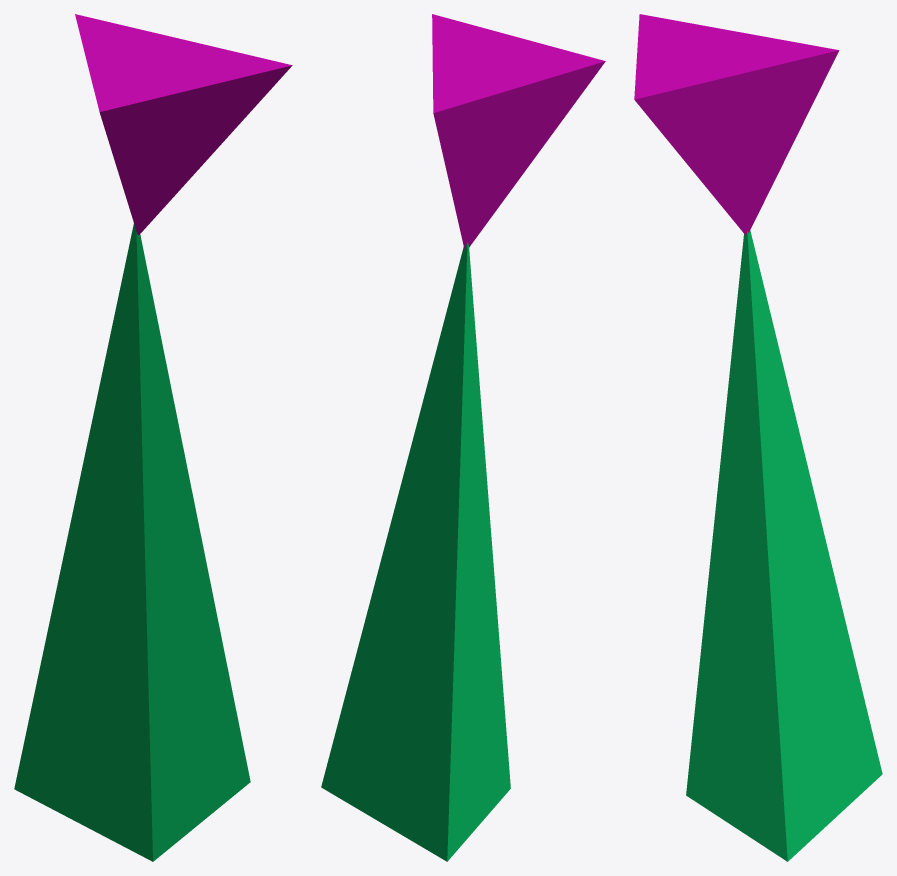
File: Tulip_Pink.fbx
3 renders of one model, left to right at view 1: azimuth 30°, elevation 25°; view 2: azimuth 150°, elevation 25°; view 3: azimuth 270°, elevation 25°, orthographic. The views are drawn at different scales.
Parts seen in each view (by area): view 1: Blossom, Branch; view 2: Blossom, Branch; view 3: Blossom, Branch.
Boxes of the visible parts, box(x1,y1,x2,y2) form: Blossom: box(14, 224, 250, 861); Branch: box(75, 14, 292, 234); Blossom: box(321, 241, 510, 861); Branch: box(432, 14, 605, 249); Blossom: box(686, 230, 882, 861); Branch: box(634, 14, 839, 235).
Bounding box in the file's own units: 26.96 × 88.63 × 26.68.
